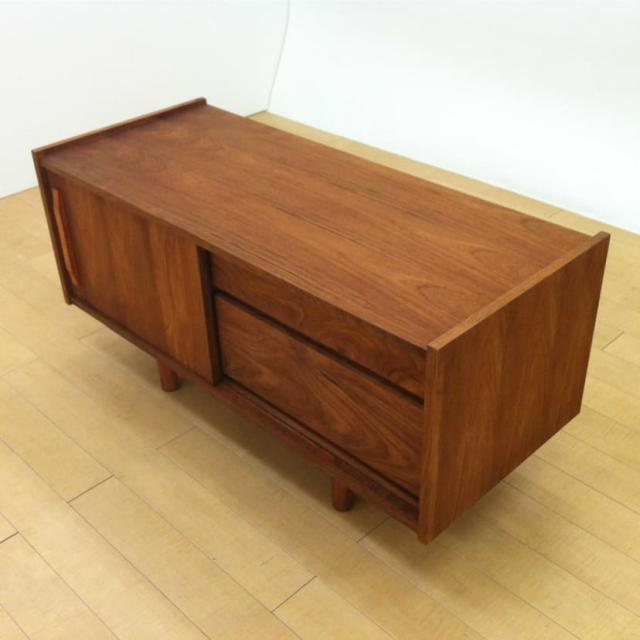vintage shelf: (29, 91, 606, 546)
